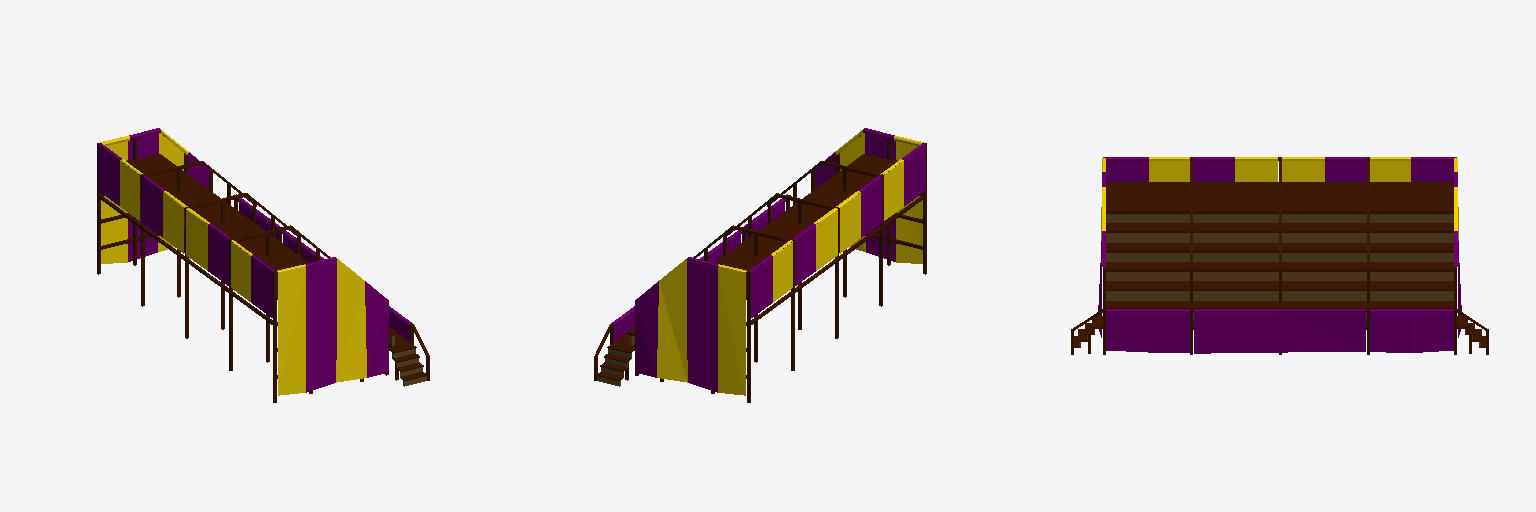
File: Platform_purple_yellow.obj
The picture shows the model from 3 angles: view 1: azimuth 30°, elevation 25°; view 2: azimuth 150°, elevation 25°; view 3: azimuth 270°, elevation 25°; orthographic projection.
Visible parts, largest first — view 1: Platform_01; view 2: Platform_01; view 3: Platform_01.
Part boxes in pixels (left/top/right/bottom): Platform_01: left=97, top=128, right=429, bottom=402; Platform_01: left=594, top=128, right=926, bottom=402; Platform_01: left=1071, top=157, right=1488, bottom=354.
Bounding box in the file's own units: 5.63 × 4.96 × 14.4.